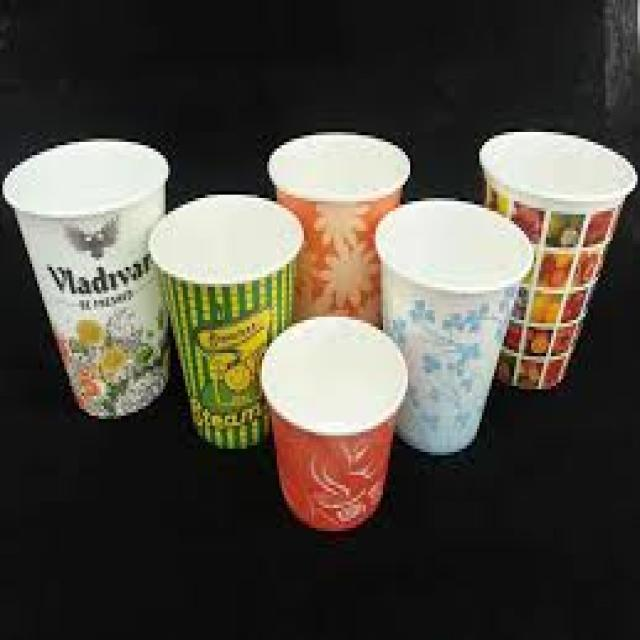cup: (0, 103, 177, 436), (147, 174, 309, 471), (371, 176, 519, 474), (484, 133, 632, 423), (260, 310, 418, 550)
